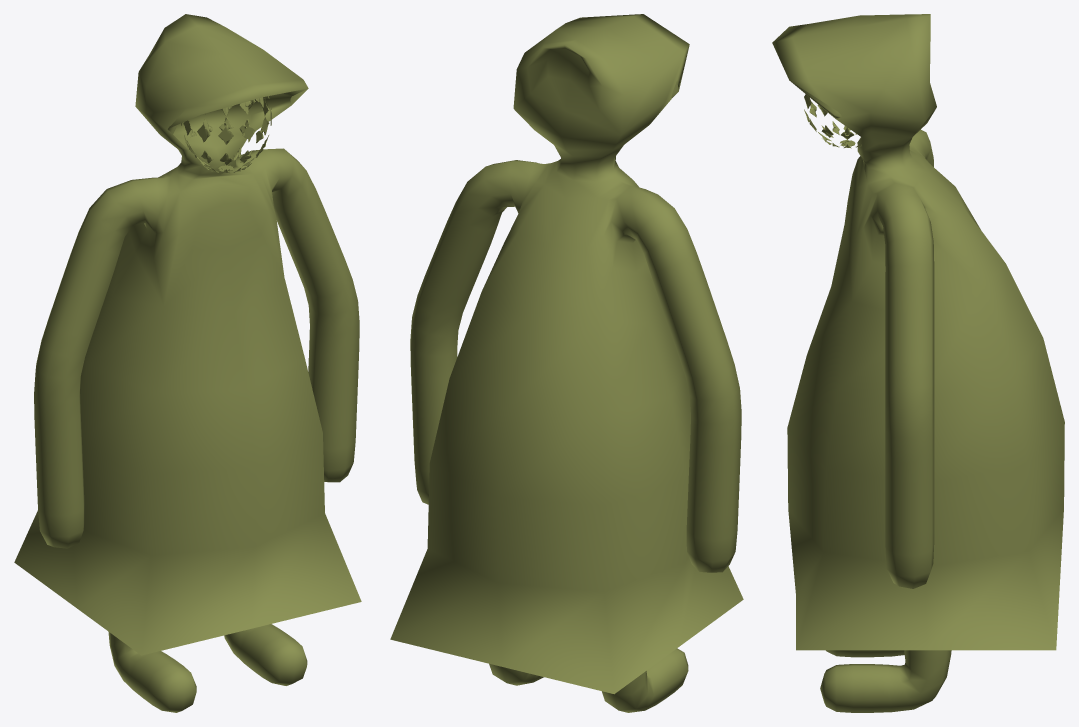
The model's file is TRENCHCOAT-GUY.glb.
3 views of the same model, side by side, from view 1: azimuth 30°, elevation 25°; view 2: azimuth 150°, elevation 25°; view 3: azimuth 270°, elevation 25° (orthographic). The views are drawn at different scales.
Parts seen in each view (by area): view 1: trenchcoat; view 2: trenchcoat; view 3: trenchcoat.
Boxes of the visible parts, box(x1,y1,x2,y2) form: trenchcoat: box(14, 14, 361, 712); trenchcoat: box(390, 14, 743, 712); trenchcoat: box(772, 14, 1064, 712).
Bounding box in the file's own units: 3.46 × 6.76 × 2.69.
